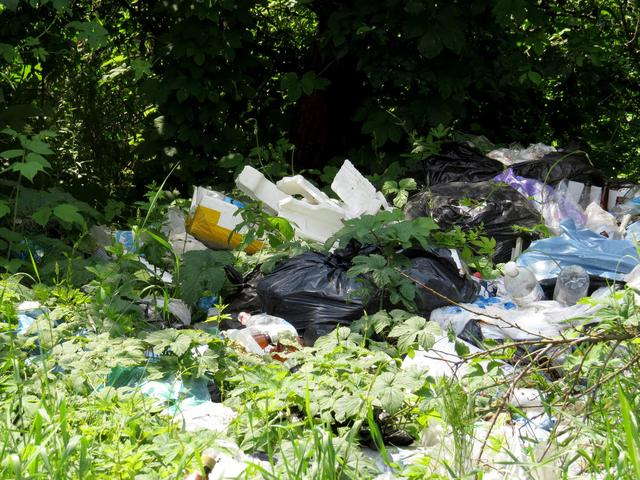garbage: (192, 196, 598, 328)
